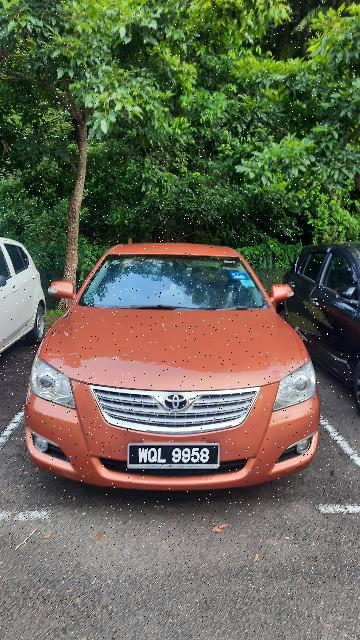License_Plate: (127, 442, 222, 473)
car: (27, 238, 324, 499)
